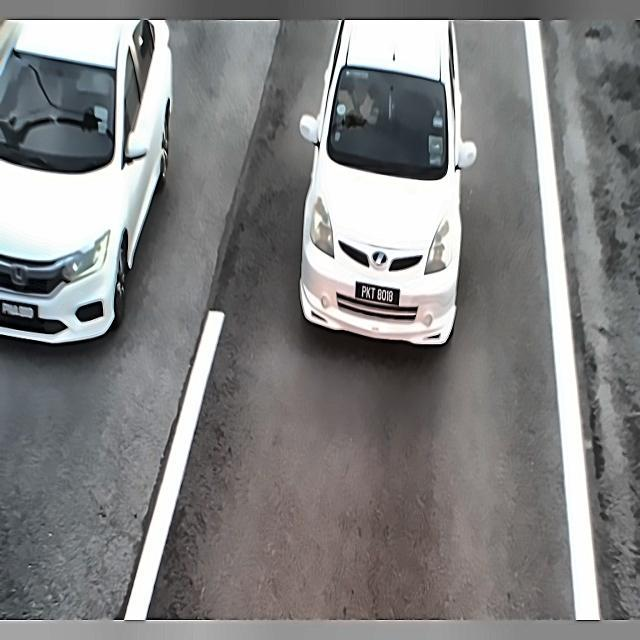car: (354, 273, 401, 313), (1, 297, 39, 331)
